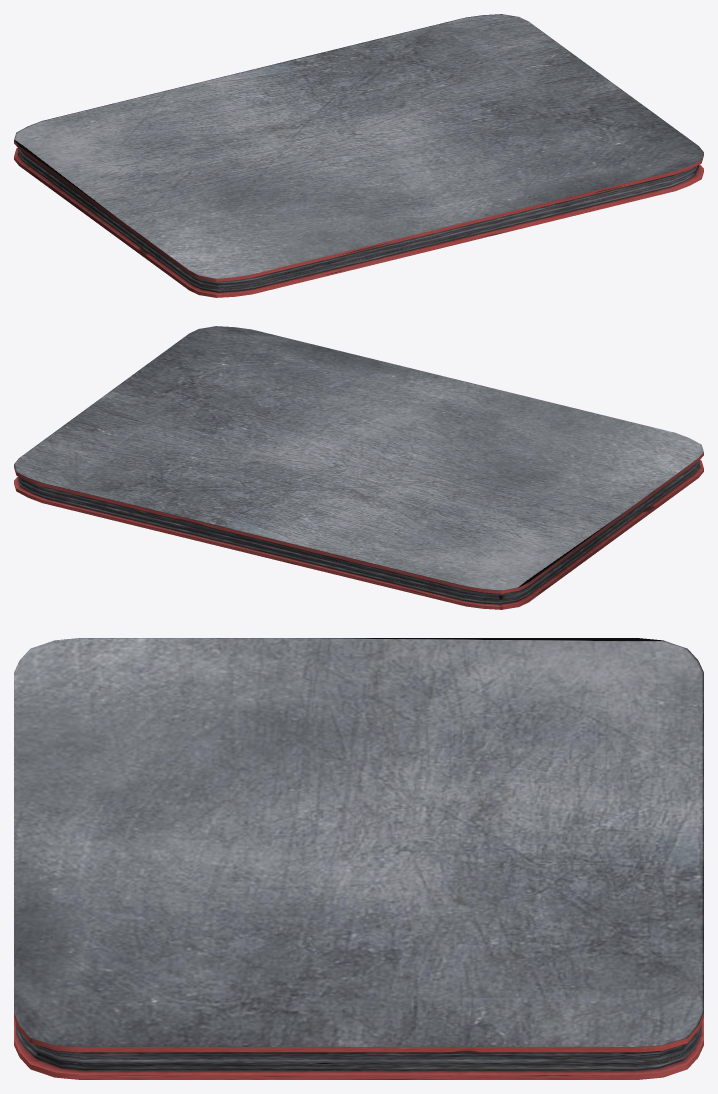
Rendered from D_Roof.fbx.
3 views of the same model, one above another, from view 1: azimuth 30°, elevation 25°; view 2: azimuth 150°, elevation 25°; view 3: azimuth 270°, elevation 25° (orthographic). The views are drawn at different scales.
Visible parts, largest first — view 1: pCube18; view 2: pCube18; view 3: pCube18.
Boxes of the visible parts, bbox=[...] form: pCube18: bbox=[14, 14, 703, 297]; pCube18: bbox=[14, 326, 703, 609]; pCube18: bbox=[14, 638, 703, 1079].
Bounding box in the file's own units: 25.81 × 0.9683 × 18.41.
1 material, 1 textured.
